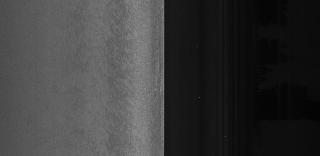silk spot: (108, 53, 134, 88)
